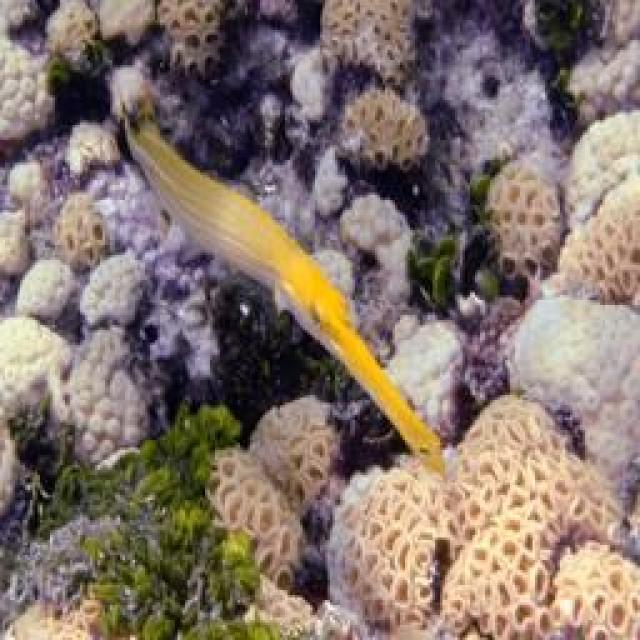fish: (117, 81, 446, 479)
reefs: (320, 396, 638, 638), (0, 259, 148, 520), (500, 300, 638, 512)
